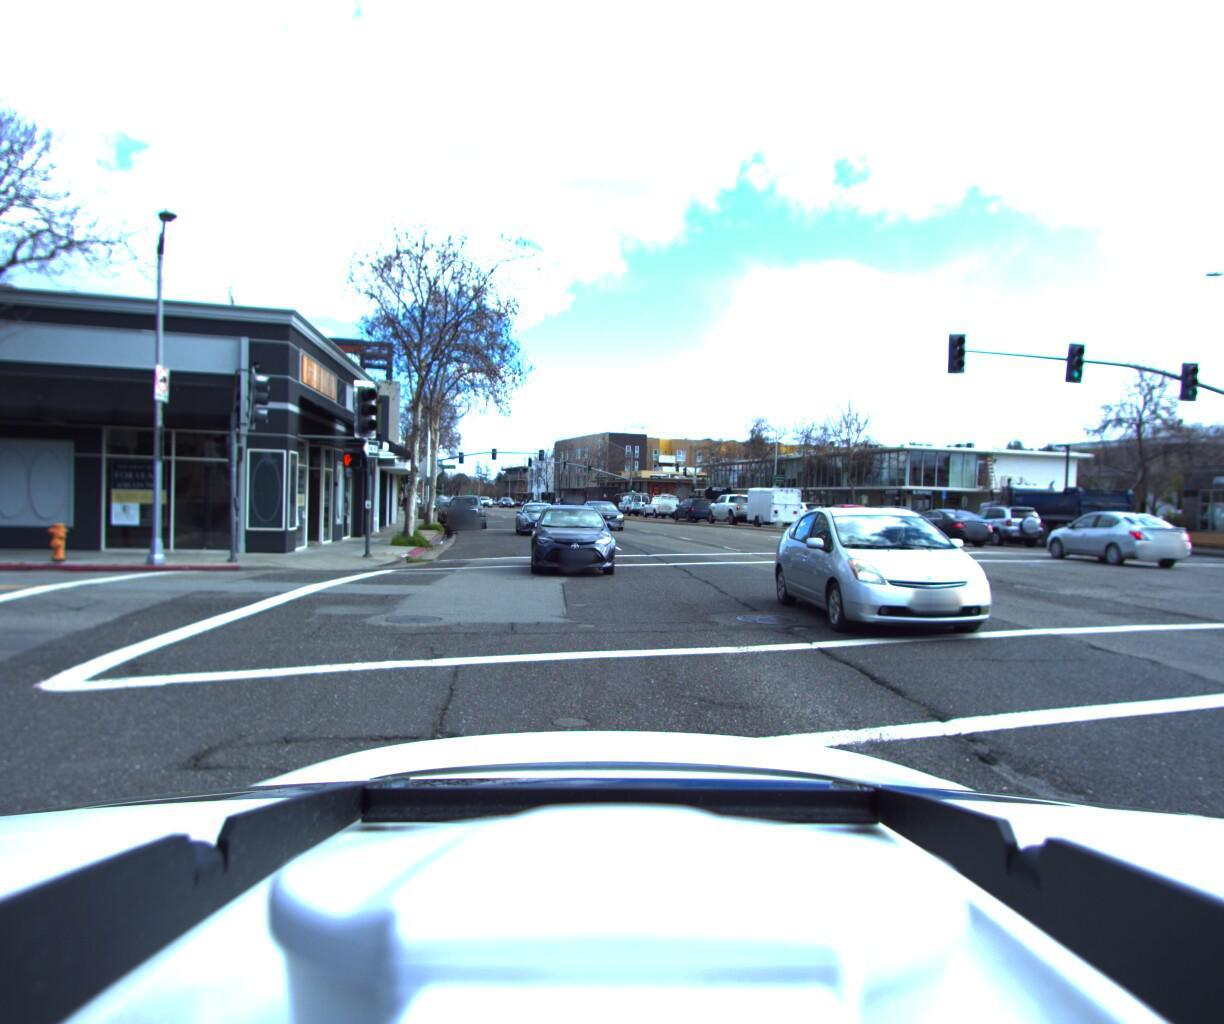car: (772, 504, 1067, 664), (1038, 510, 1194, 571), (529, 503, 619, 583), (943, 506, 1051, 550), (894, 508, 1001, 550), (806, 504, 881, 539), (700, 495, 768, 530), (583, 501, 636, 535), (779, 502, 841, 531), (515, 505, 561, 543), (447, 495, 489, 534), (673, 499, 719, 525), (644, 495, 683, 522), (617, 494, 653, 518)
other_vehicle: (743, 487, 805, 530)
truck: (964, 478, 1141, 553), (685, 487, 757, 524)
